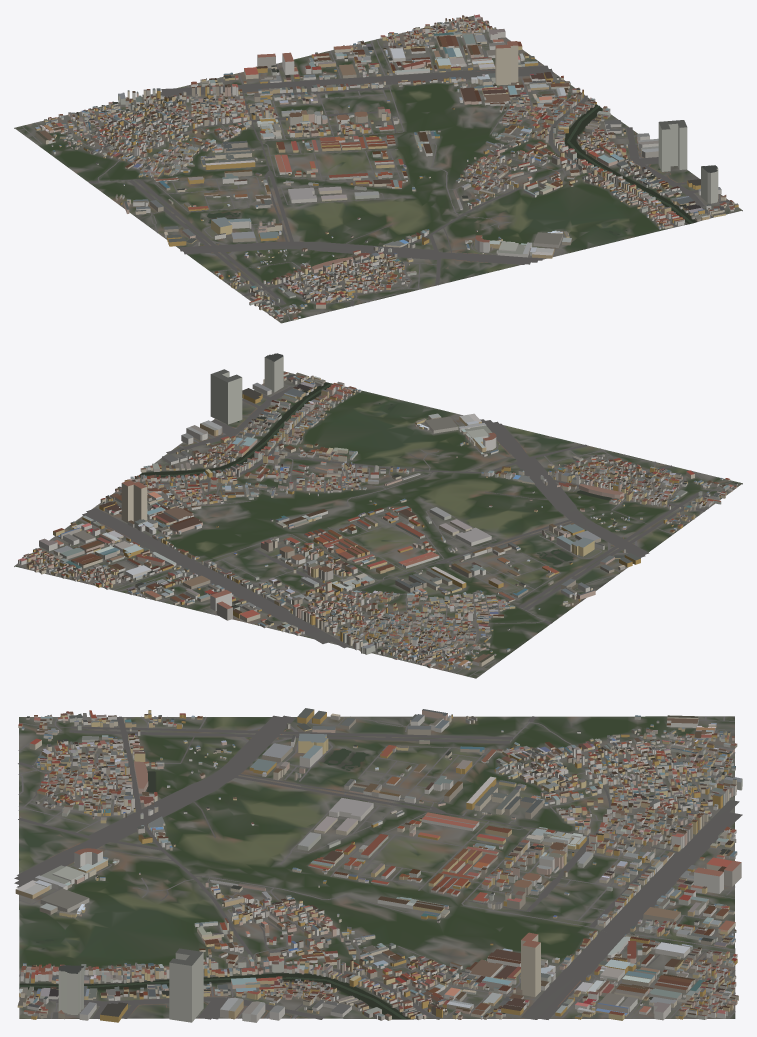
3 views of the same model, one above another, from view 1: azimuth 30°, elevation 25°; view 2: azimuth 150°, elevation 25°; view 3: azimuth 270°, elevation 25° (orthographic). The views are drawn at different scales.
Visible parts, largest first — view 1: ground, buildings, roads, water; view 2: ground, buildings, roads, water; view 3: ground, buildings, roads, water.
Part boxes in pixels (x1,y1,x2,y2): ground: (14,15,742,323); buildings: (35,14,738,320); roads: (18,17,729,320); water: (207,104,696,234); ground: (14,371,742,678); buildings: (18,353,737,670); roads: (16,377,733,676); water: (136,382,611,564); ground: (19,716,735,1019); buildings: (15,708,742,1022); roads: (14,715,742,1019); water: (19,748,409,1019).
Size of the model in its own units: 1433 by 127 by 1427.
